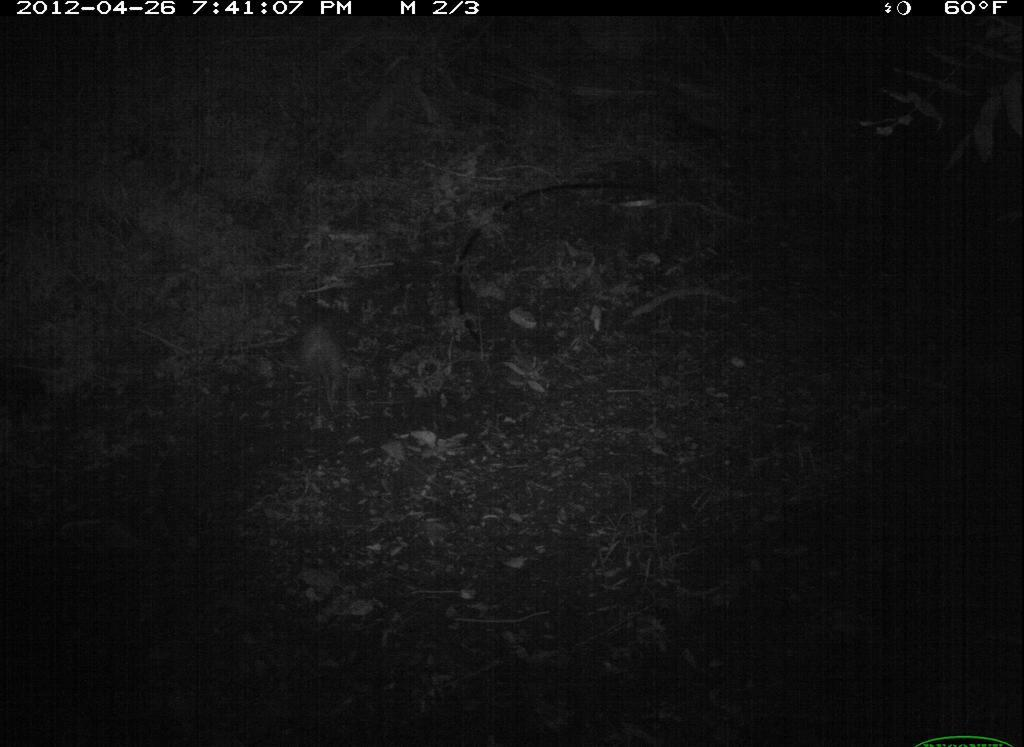opossum: (292, 309, 356, 429)
